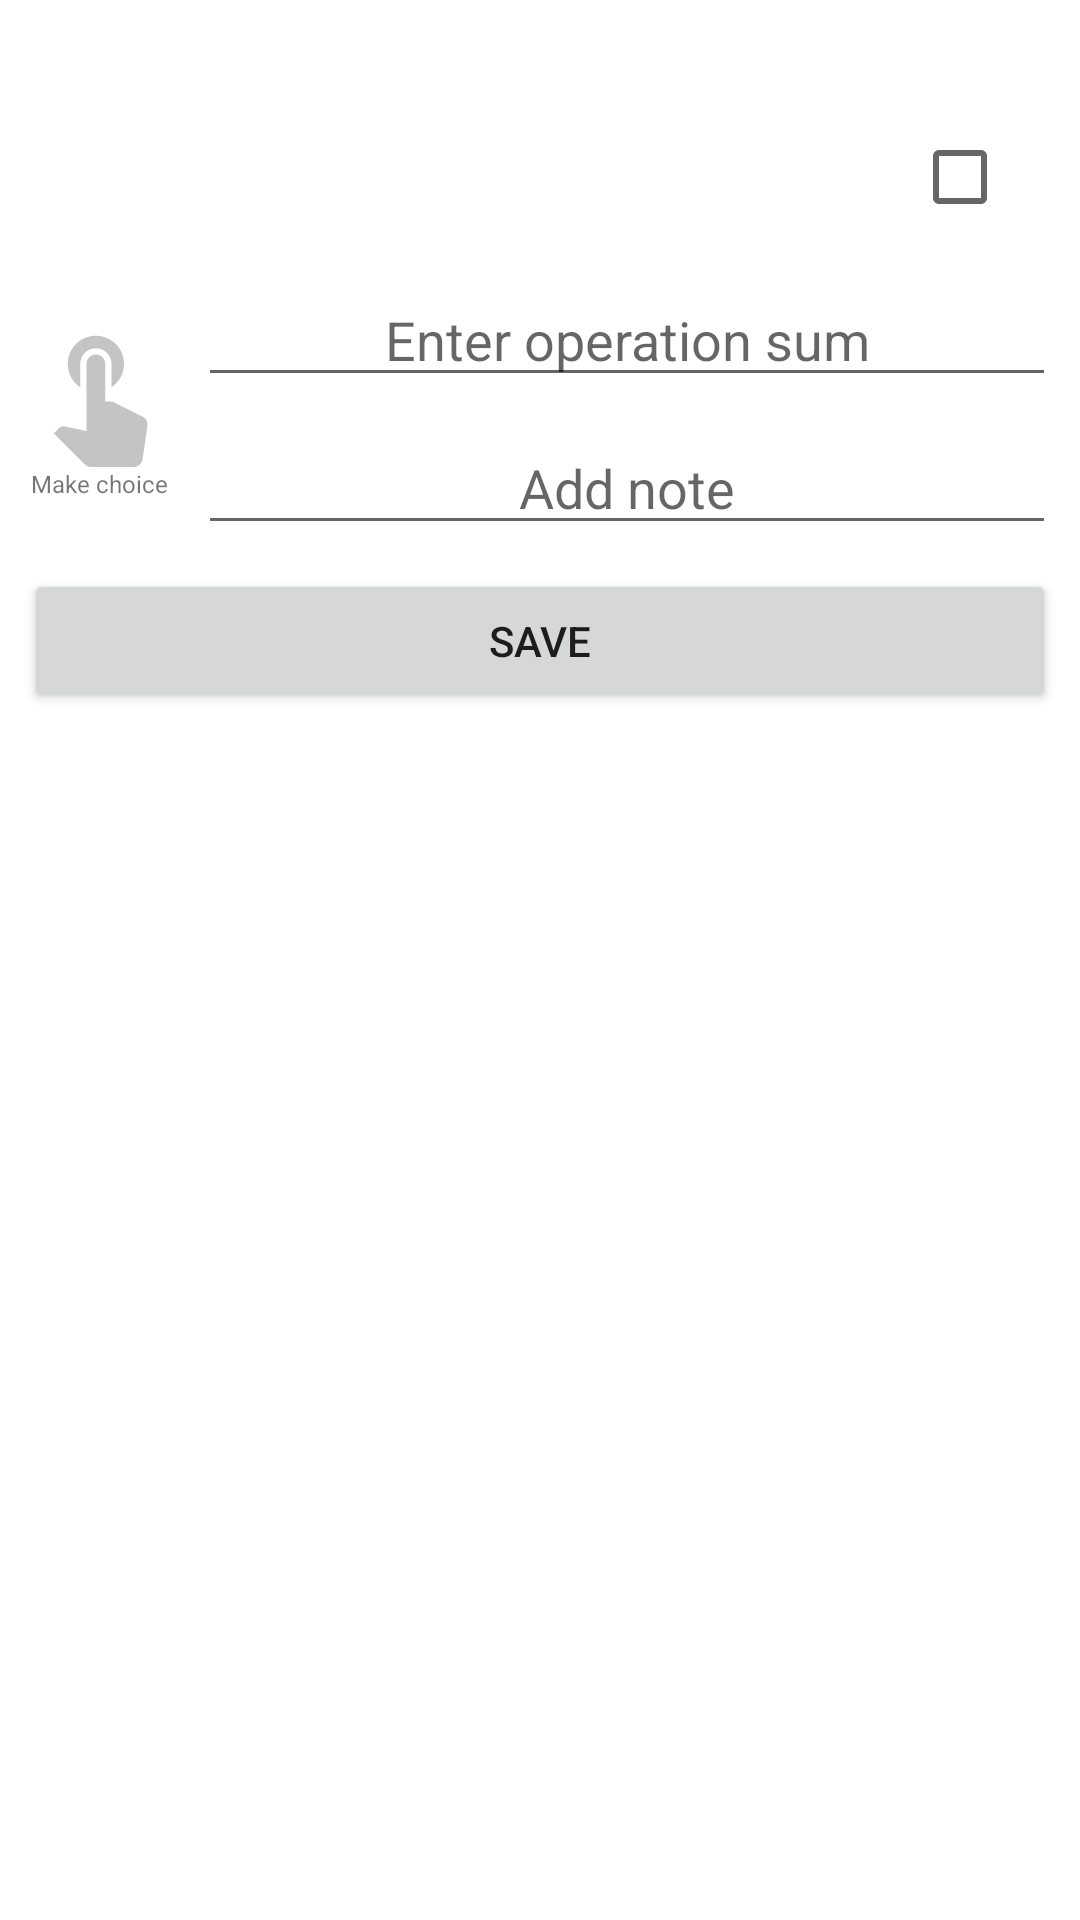

Screen size 1080px×1920px. Icon name, then its box in pixels as (x1, y1, x2, y2):
touch app: (54, 336, 148, 467)
